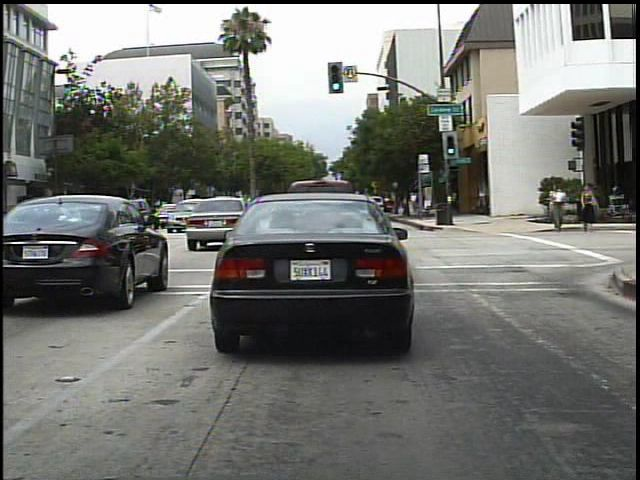person: (545, 179, 571, 234), (576, 180, 602, 234), (406, 188, 423, 219)
